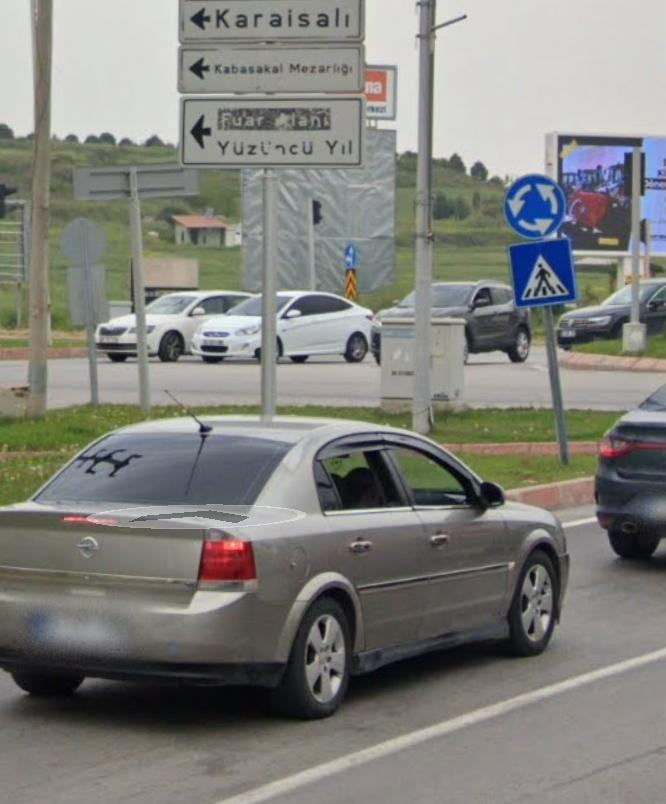crossroads: (504, 173, 564, 234)
